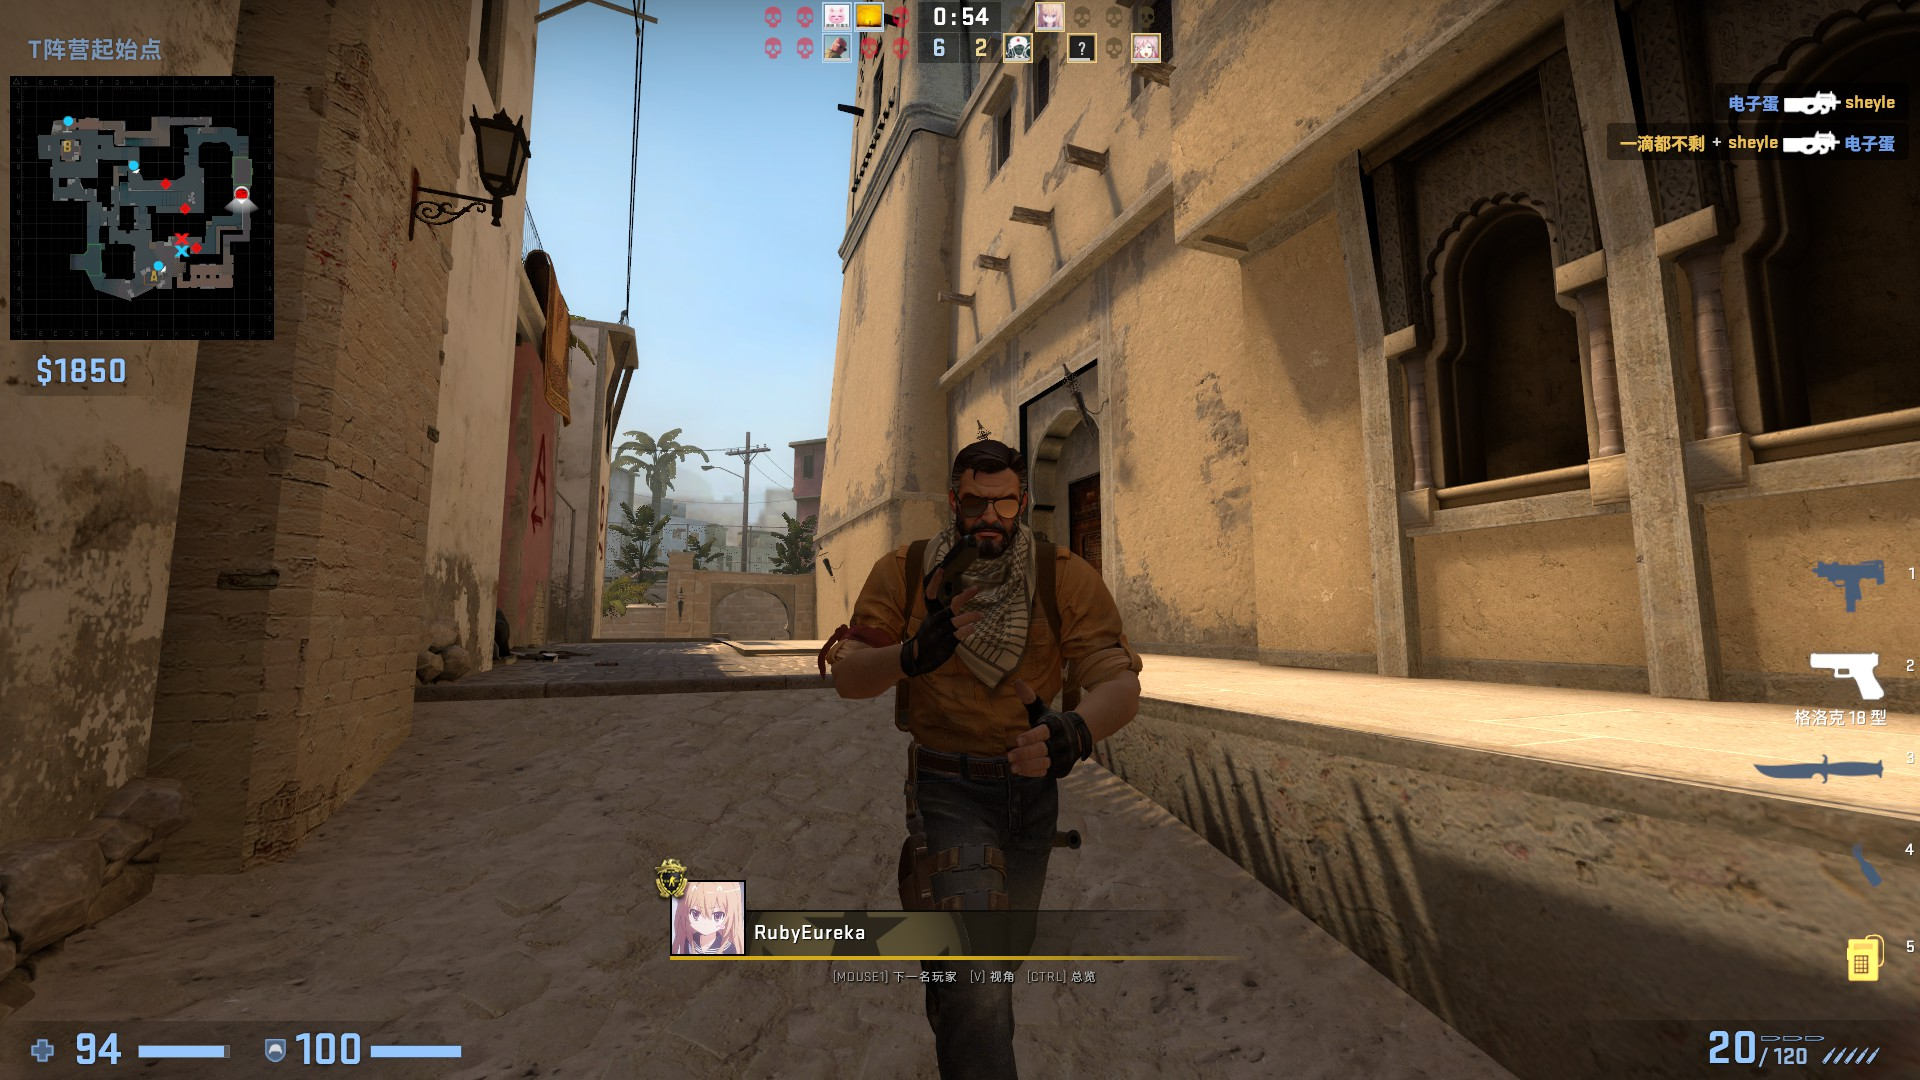head: (946, 434, 1031, 556)
